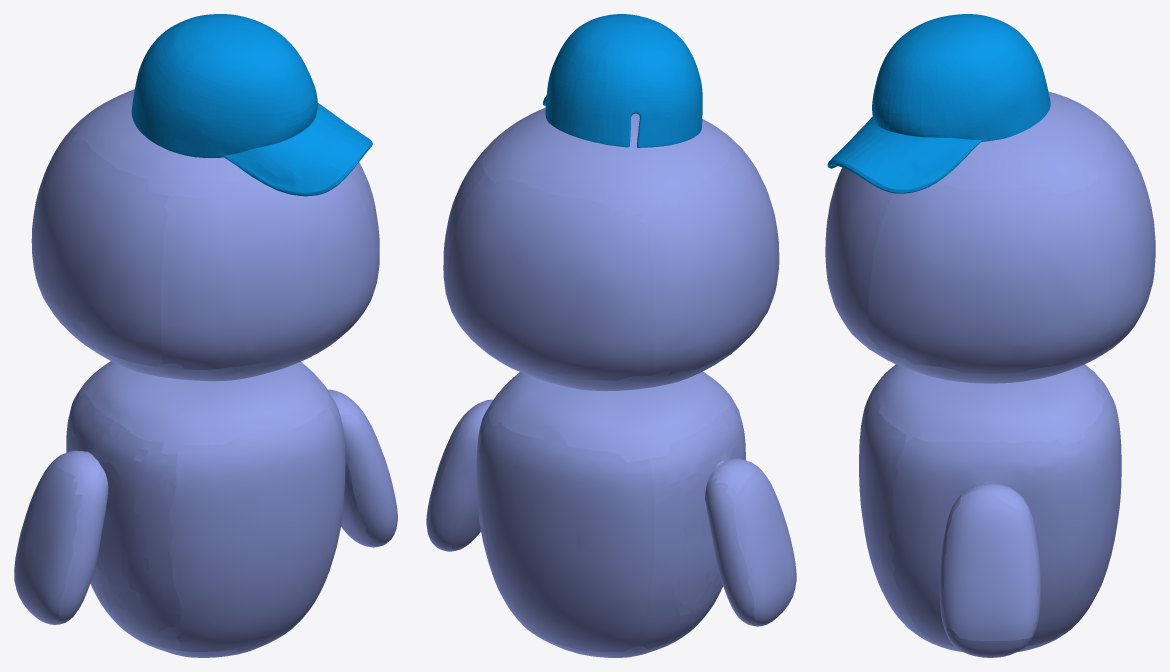
File: hat.glb
3 renders of one model, left to right at view 1: azimuth 30°, elevation 25°; view 2: azimuth 150°, elevation 25°; view 3: azimuth 270°, elevation 25°, orthographic. The views are drawn at different scales.
Visible parts, largest first — view 1: world, world.001; view 2: world, world.001; view 3: world, world.001.
Boxes of the visible parts, box(x1,y1,x2,y2) form: world: box(14, 89, 397, 657); world.001: box(131, 14, 372, 196); world: box(426, 107, 796, 657); world.001: box(543, 14, 702, 147); world: box(825, 91, 1155, 657); world.001: box(827, 14, 1050, 193).
Bounding box in the file's own units: 0.6825 × 1.15 × 0.5591.
